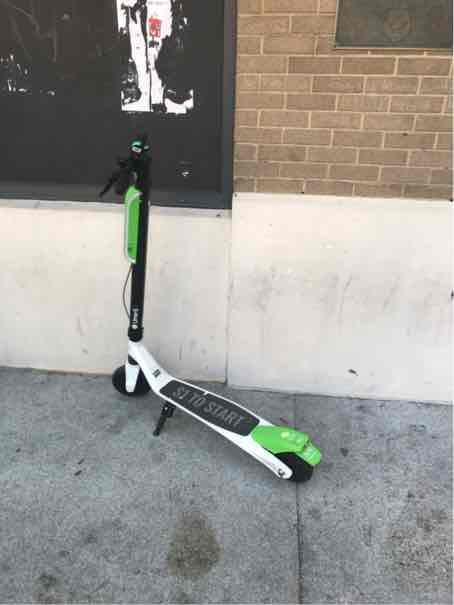scooter: (87, 120, 331, 494)
